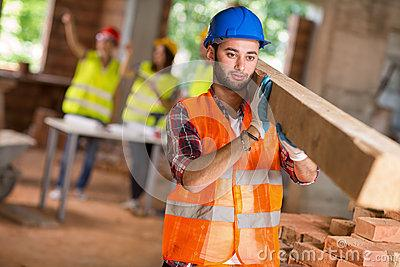helmet: (204, 7, 271, 49), (152, 38, 184, 57), (95, 26, 122, 44)
